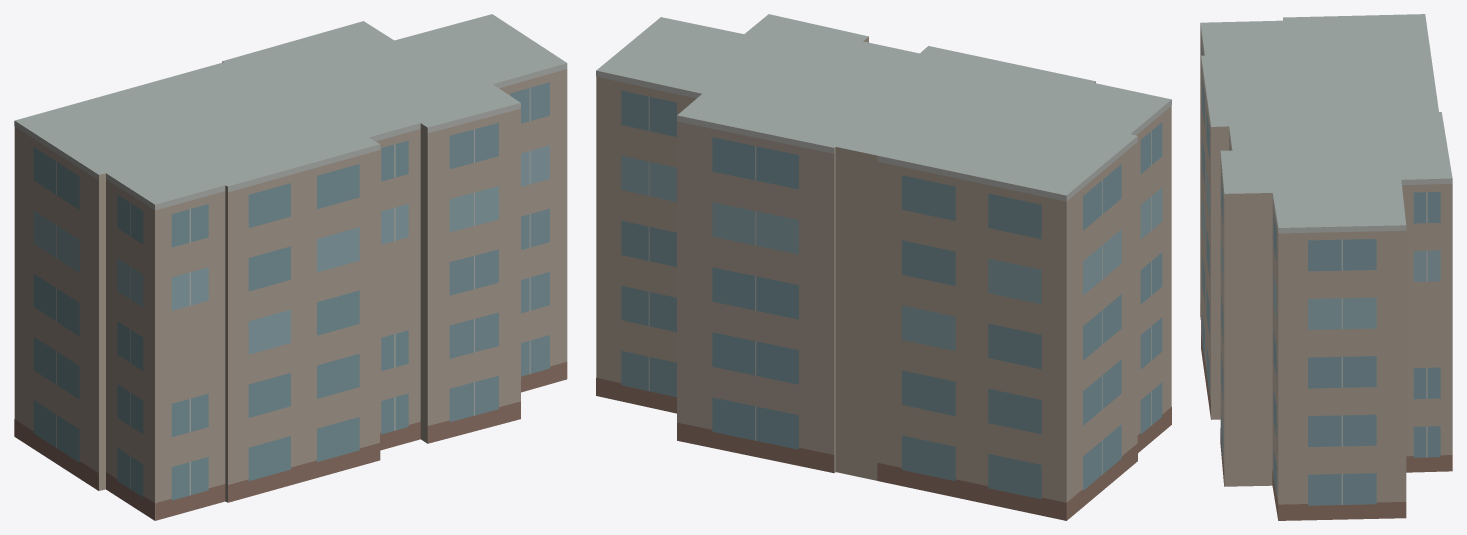
File: survey-upis-32706250.glb
3 renders of one model, left to right at view 1: azimuth 30°, elevation 25°; view 2: azimuth 150°, elevation 25°; view 3: azimuth 270°, elevation 25°, orthographic. The views are drawn at different scales.
Parts seen in each view (by area): view 1: survey-upis-32706250.tmp; view 2: survey-upis-32706250.tmp; view 3: survey-upis-32706250.tmp.
Part boxes in pixels (left/top/right/bottom): survey-upis-32706250.tmp: left=14, top=14, right=567, bottom=520; survey-upis-32706250.tmp: left=596, top=14, right=1171, bottom=520; survey-upis-32706250.tmp: left=1200, top=14, right=1452, bottom=520.
Size of the model in its own units: 20.78 by 13.25 by 10.35.
